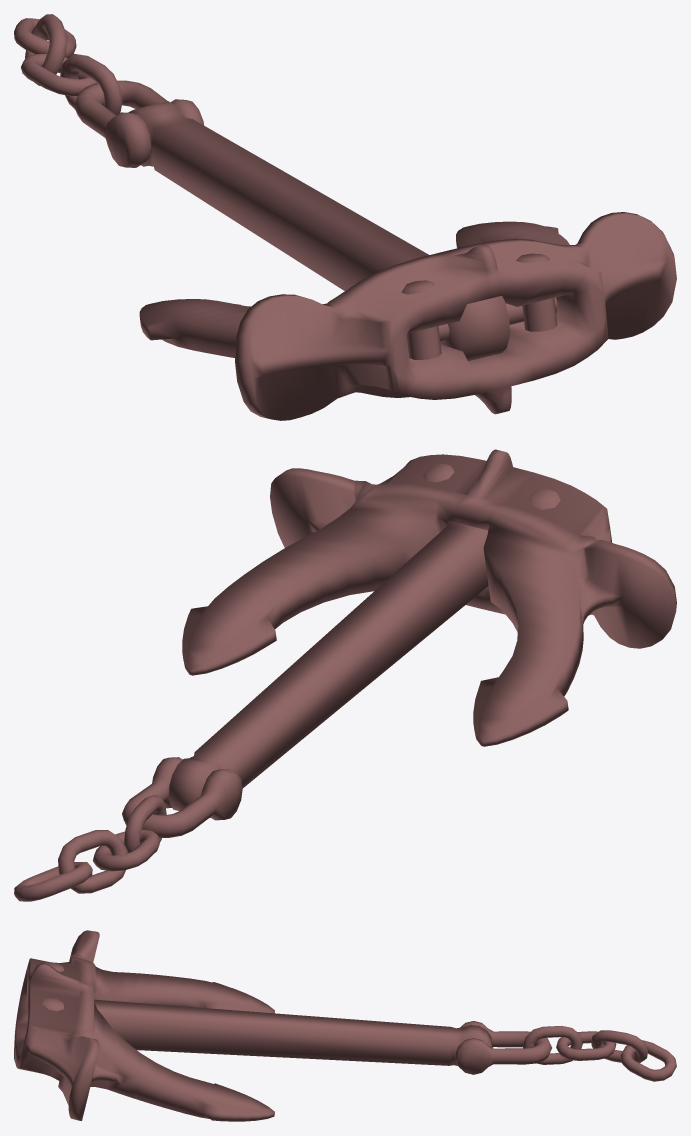
File: hall_anchor_static.fbx
3 renders of one model, top to bottom at view 1: azimuth 30°, elevation 25°; view 2: azimuth 150°, elevation 25°; view 3: azimuth 270°, elevation 25°, orthographic. The views are drawn at different scales.
Parts seen in each view (by area): view 1: Hall_acnhor_static2; view 2: Hall_acnhor_static2; view 3: Hall_acnhor_static2.
Part boxes in pixels (x1,y1,x2,y2): Hall_acnhor_static2: (14,14,676,420); Hall_acnhor_static2: (14,449,676,901); Hall_acnhor_static2: (14,930,676,1121).
Size of the model in its own units: 2.67 by 0.8927 by 5.32.
